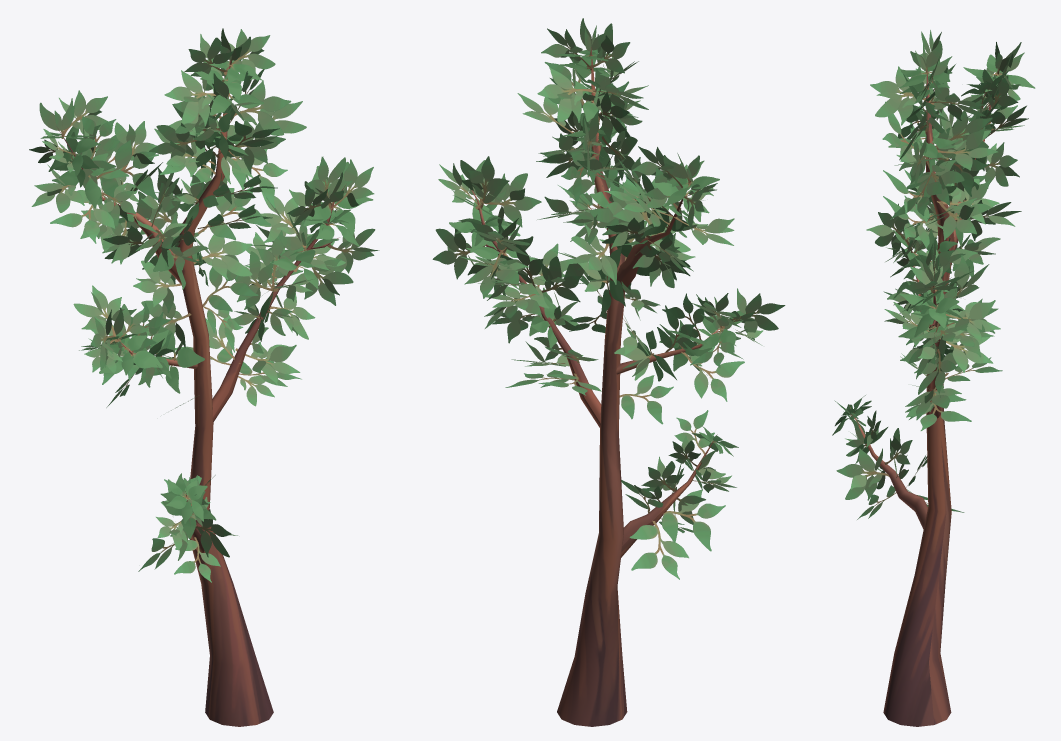
The model's file is Minitree_01.fbx.
The picture shows the model from 3 angles, left to right: view 1: azimuth 30°, elevation 25°; view 2: azimuth 150°, elevation 25°; view 3: azimuth 270°, elevation 25°; orthographic projection. The views are drawn at different scales.
Parts seen in each view (by area): view 1: minitree_leaf_01, Minitree_01; view 2: minitree_leaf_01, Minitree_01; view 3: minitree_leaf_01, Minitree_01.
Boxes of the visible parts, x1,y1,x2,y2 form: minitree_leaf_01: (29, 28, 379, 582); Minitree_01: (58, 60, 345, 726); minitree_leaf_01: (432, 18, 785, 579); Minitree_01: (471, 47, 719, 726); minitree_leaf_01: (832, 30, 1035, 519); Minitree_01: (849, 69, 998, 726).
Bounding box in the file's own units: 144 × 283 × 82.7.
